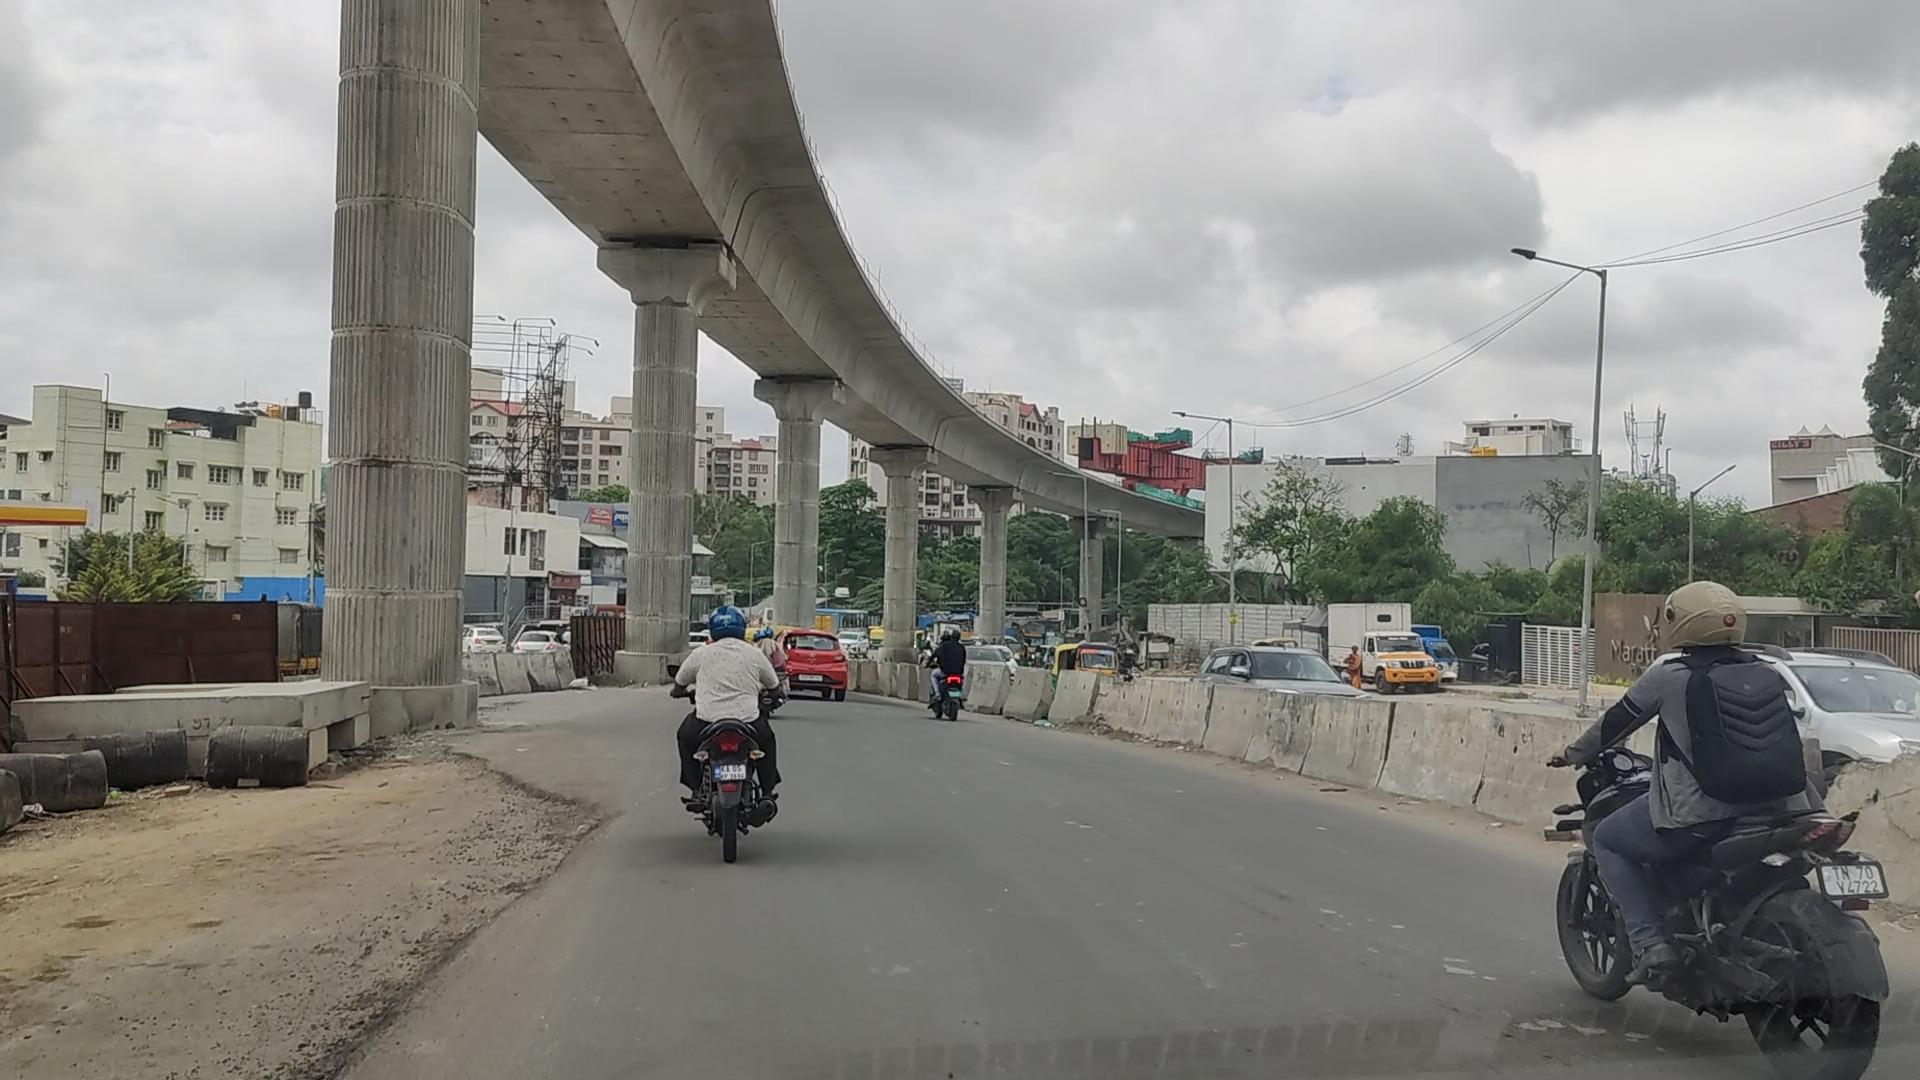LMV: (1534, 588, 1887, 1060), (674, 608, 777, 864), (932, 624, 971, 729)
RoadDamages: (409, 732, 630, 918), (262, 918, 513, 1075)
UnsurfacedRoad: (15, 796, 266, 1080)
